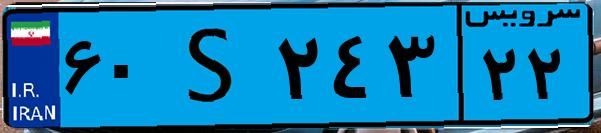0: (110, 28, 158, 98)
2: (270, 28, 330, 110), (475, 38, 525, 113), (525, 38, 570, 115)
3: (385, 28, 445, 110)
4: (330, 28, 385, 110)
6: (57, 26, 110, 100)
S: (158, 12, 270, 120)
